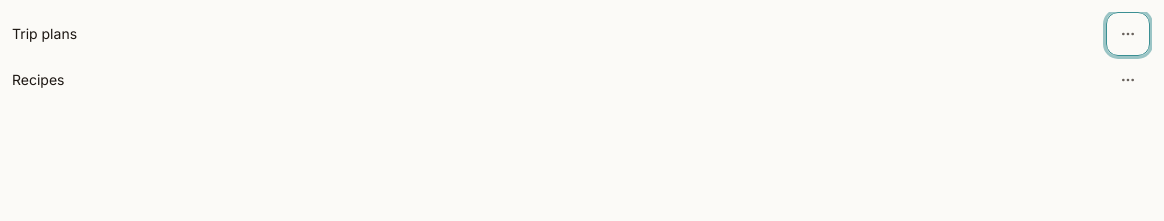
Test: SidebarList ⋯ menus › closed by a right-click elsewhere, the menu leaves focus alone
The image size is (1164, 221).
Click the button named "Actions for Trip plans" at (1128, 34), box [1106,12,1150,56]
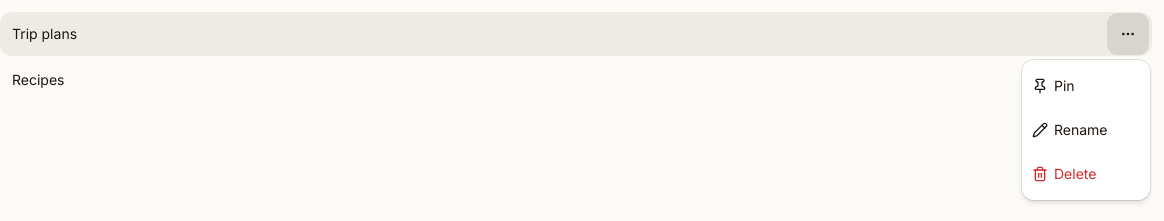
Press the mouse on the link "Recipes" at (38, 80), box [12,71,64,88]
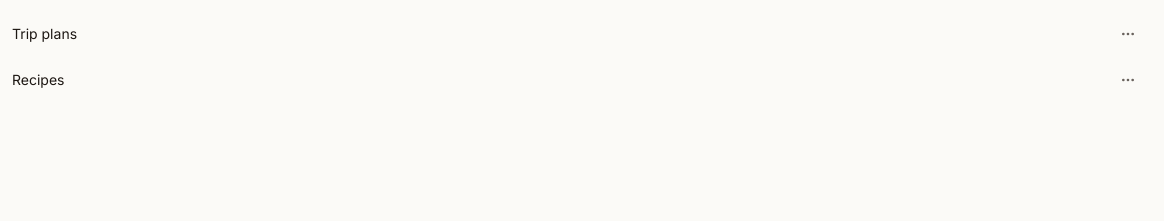
Now the menu is gone
